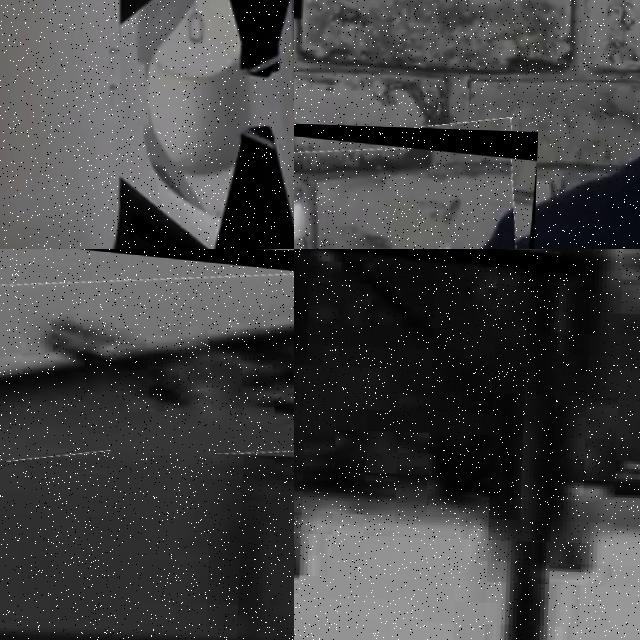drone: (0, 0, 294, 249), (0, 249, 294, 461), (294, 116, 537, 249)
